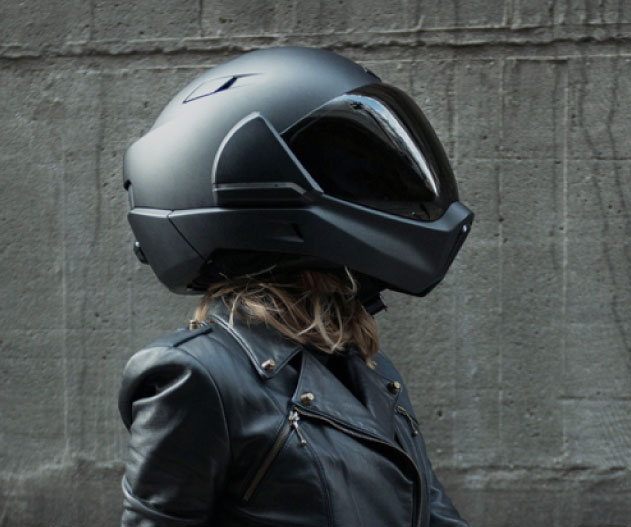with_helmet: (113, 36, 488, 318)
